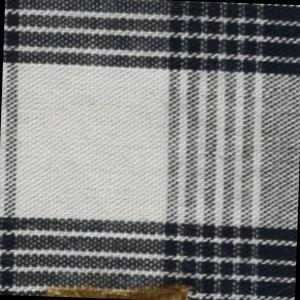Oil Stain: (38, 276, 198, 300)
